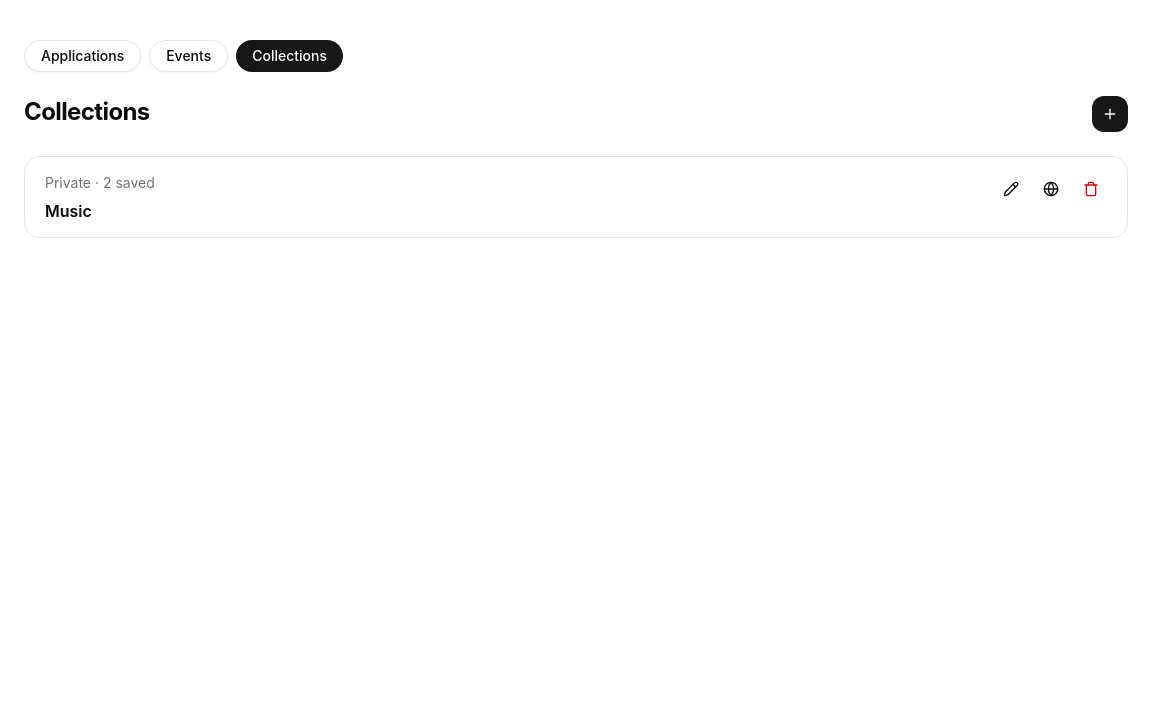
it: [phase:6] [regression:always] YouCollectionsPage › TC-COL-018: manages existing collections from the Collections page
This screenshot has width=1152, height=720.
Expected: the text "Private · 2 saved" is shown, [45, 173, 155, 193]
Click the button named "Rename" at (1011, 189), box [995, 173, 1027, 205]
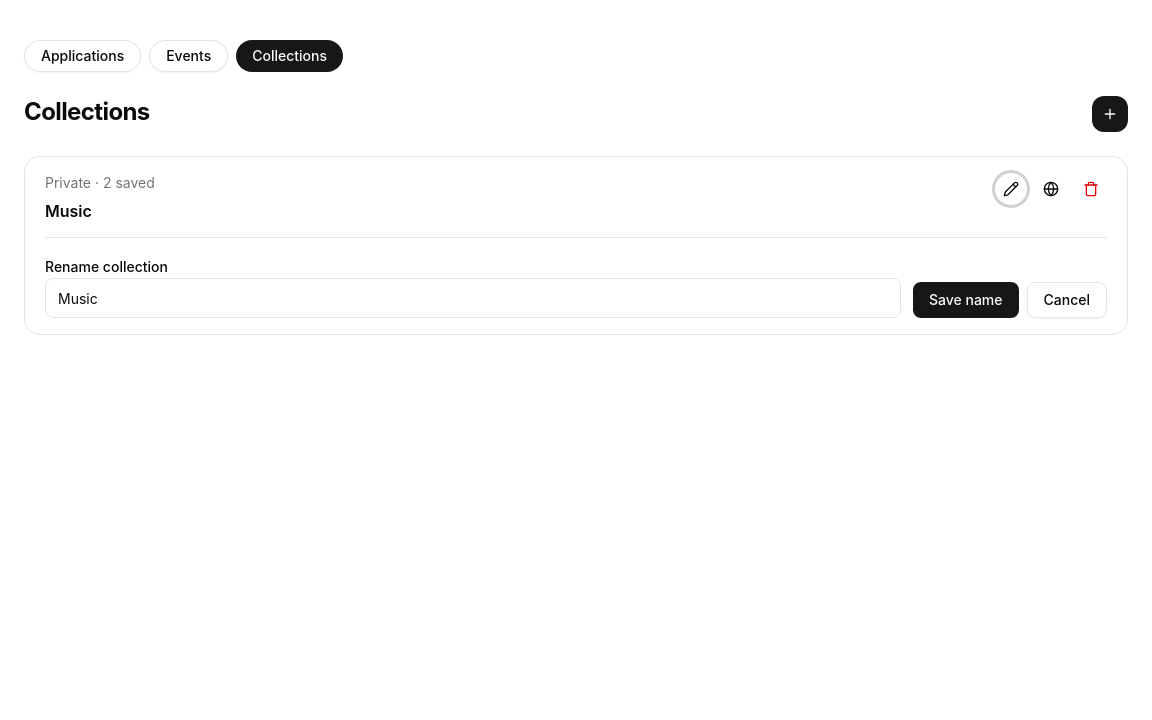
Replace the text in the field labelled "Rename collection" with "Shows" at (473, 298), box [45, 278, 901, 318]
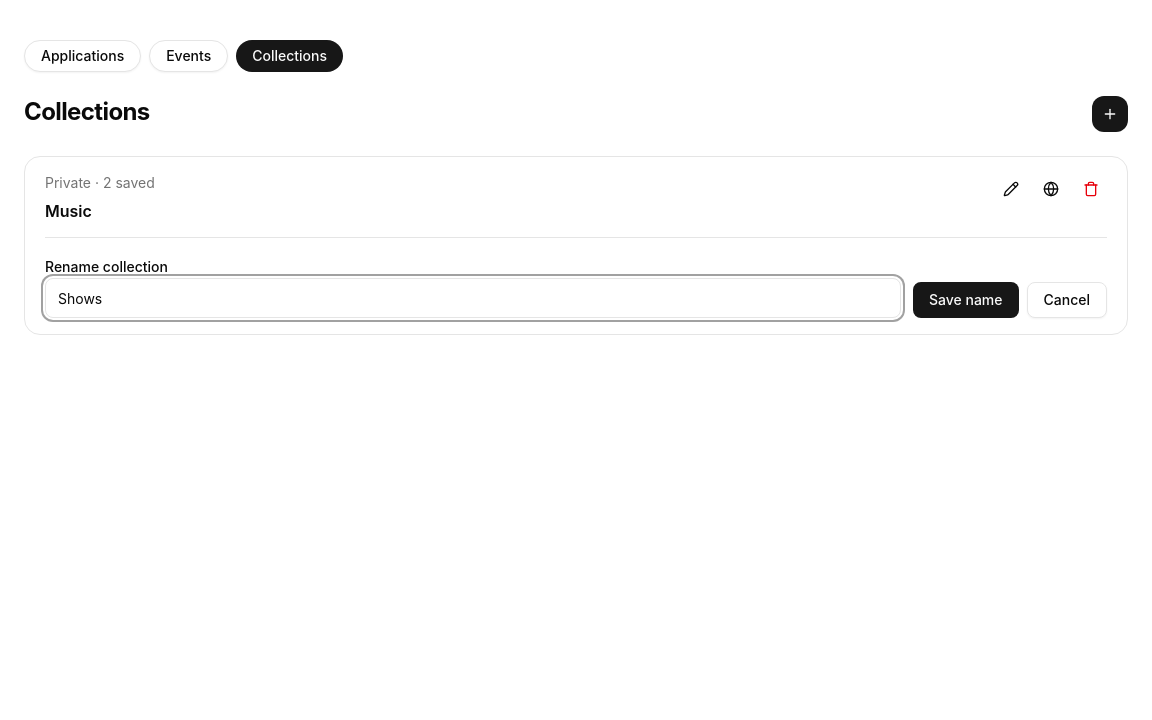
Click the button "Save name" at (966, 300), box [913, 282, 1018, 318]
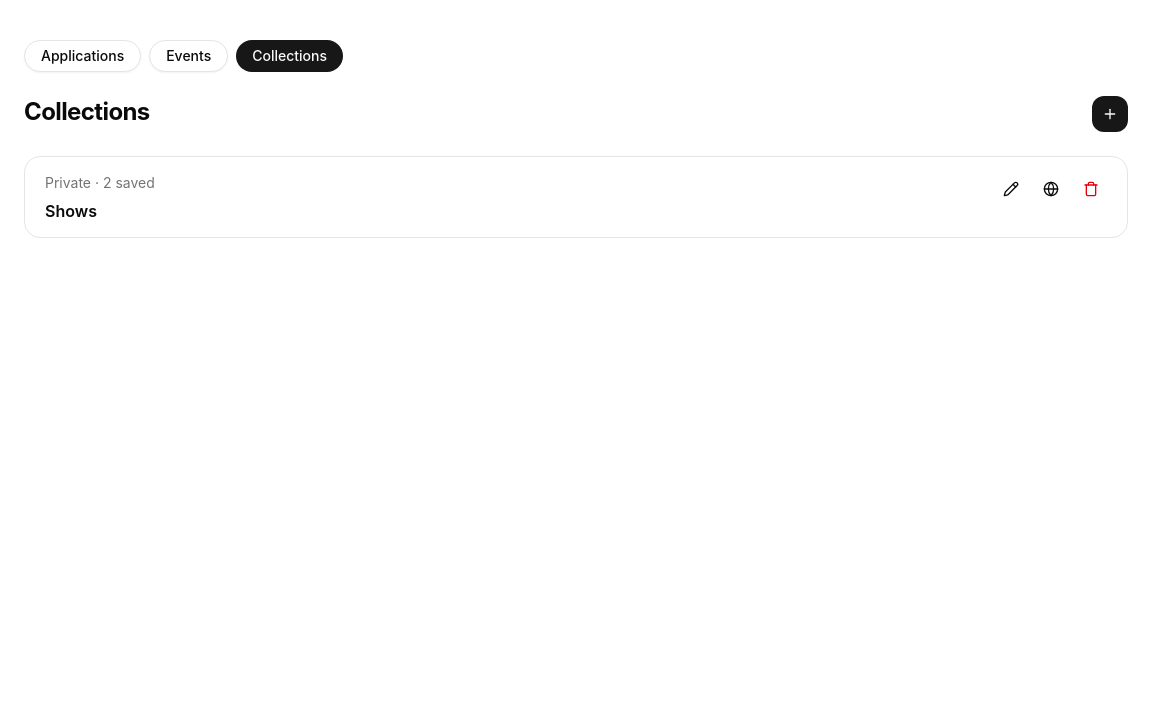
Expected: the element named "Shows collection" is shown, [25, 157, 1127, 237]
Click the button named "Make public" at (1051, 189), box [1035, 173, 1067, 205]
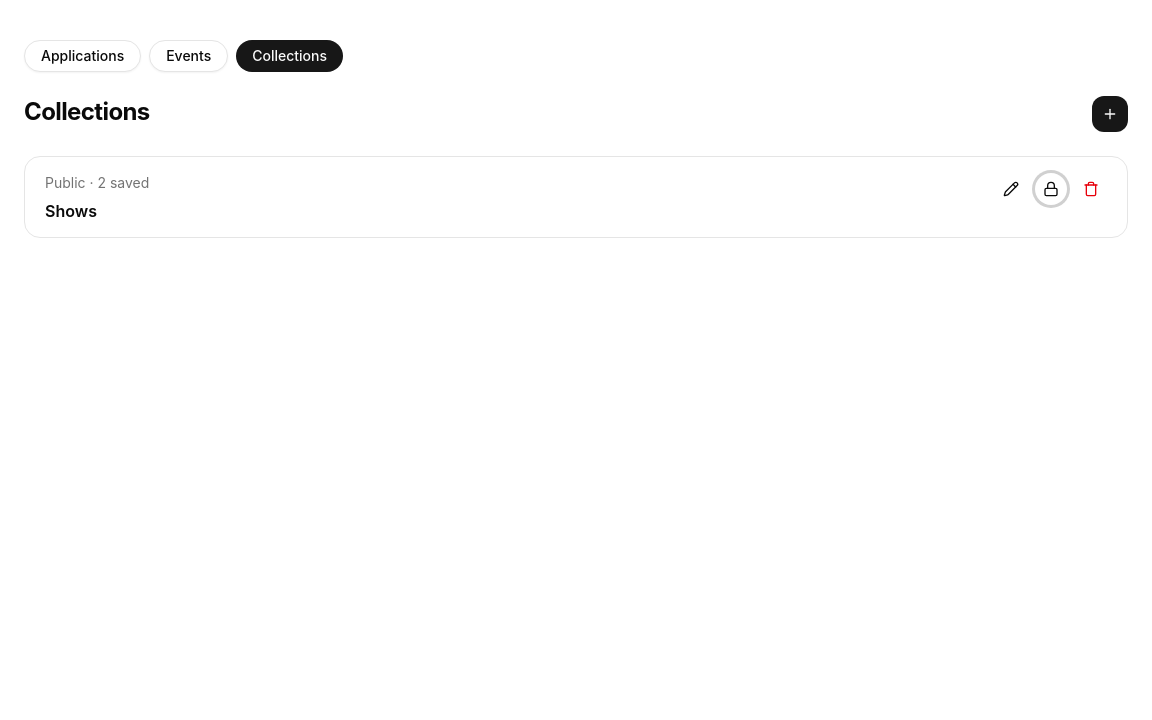
Expected: the button named "Make private" is shown, [1035, 173, 1067, 205]
Click the button named "Delete" at (1091, 189), box [1075, 173, 1107, 205]
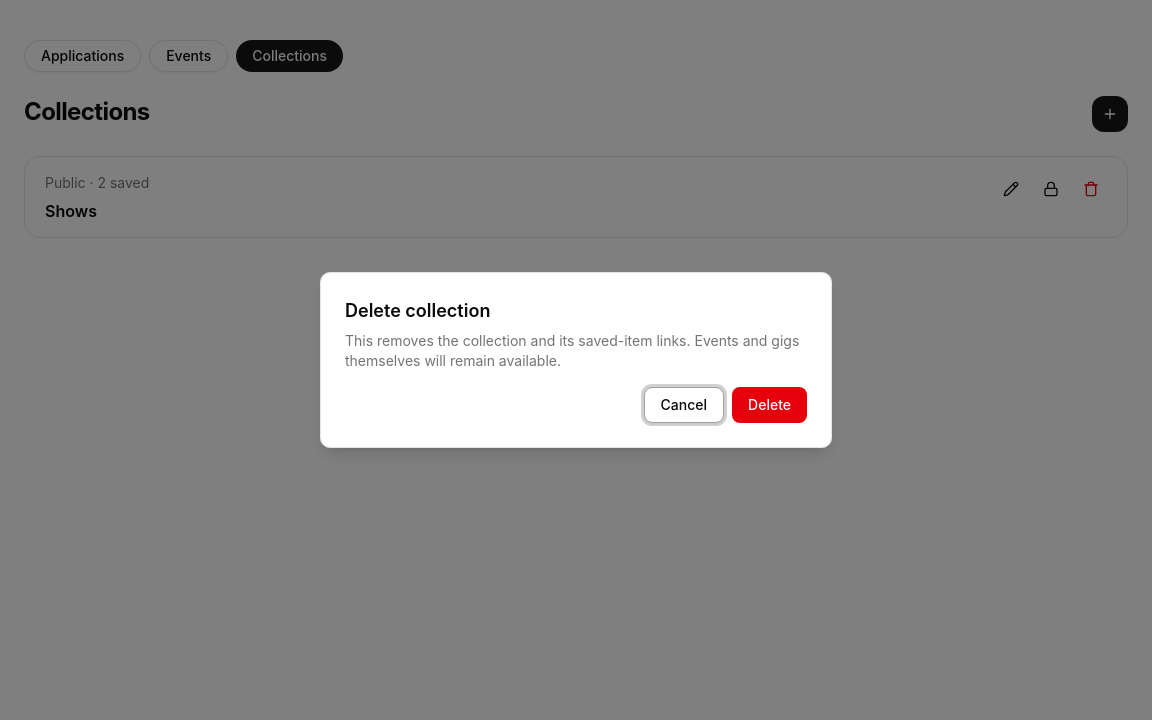
Click the button "Delete" at (770, 405), box [732, 387, 807, 423]
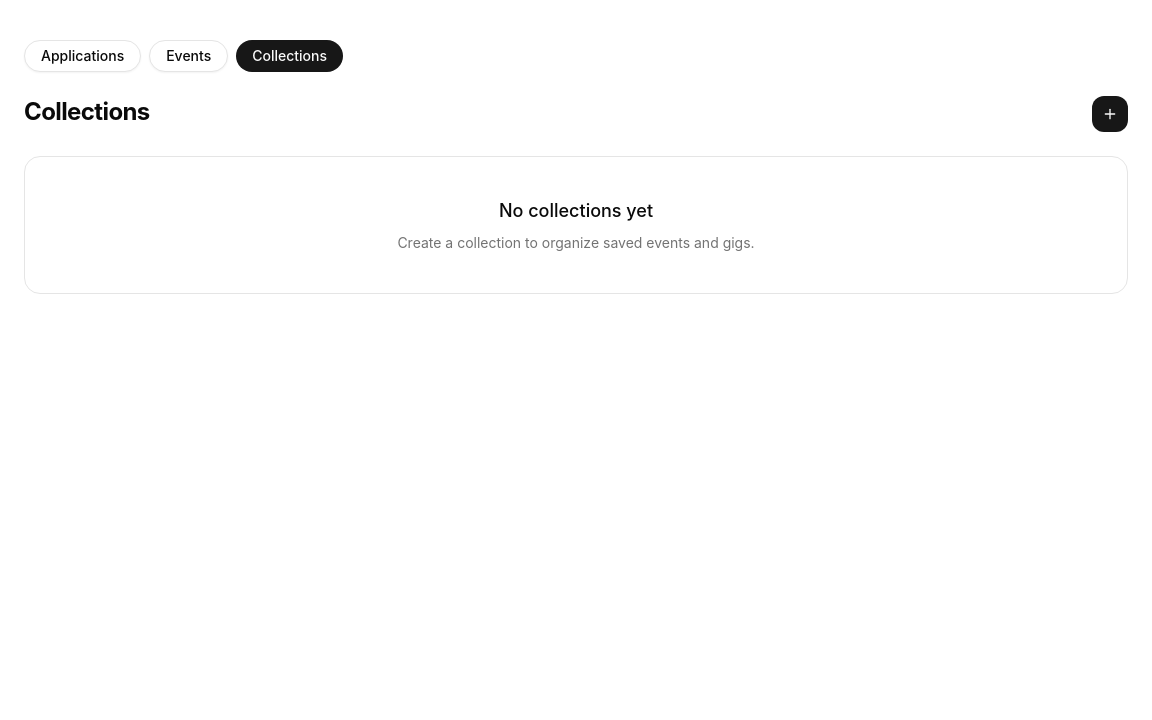
Expected: the text "No collections yet" is shown, [499, 200, 653, 221]
